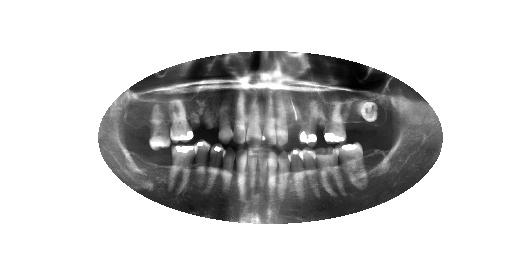Cavity: (315, 147, 347, 200), (245, 95, 264, 149)
